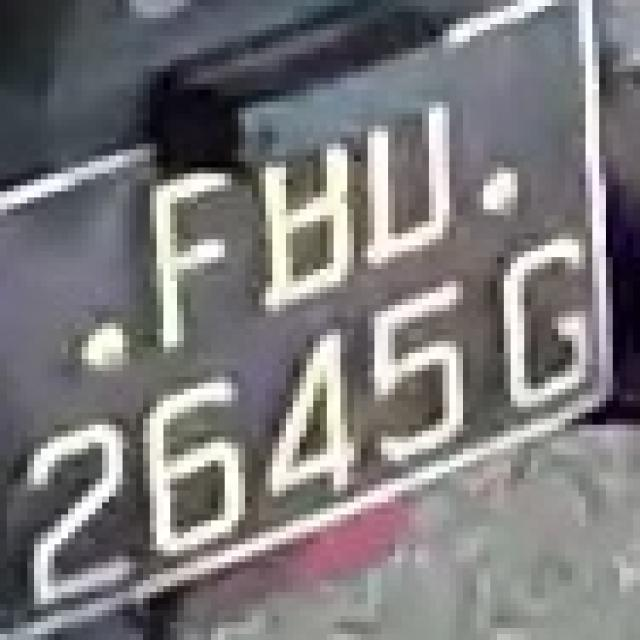2: (27, 419, 150, 622)
4: (232, 305, 368, 526)
5: (347, 275, 477, 473)
6: (116, 359, 252, 550)
B: (238, 120, 354, 323)
D: (361, 78, 476, 263)
F: (136, 137, 238, 347)
G: (476, 227, 620, 437)
